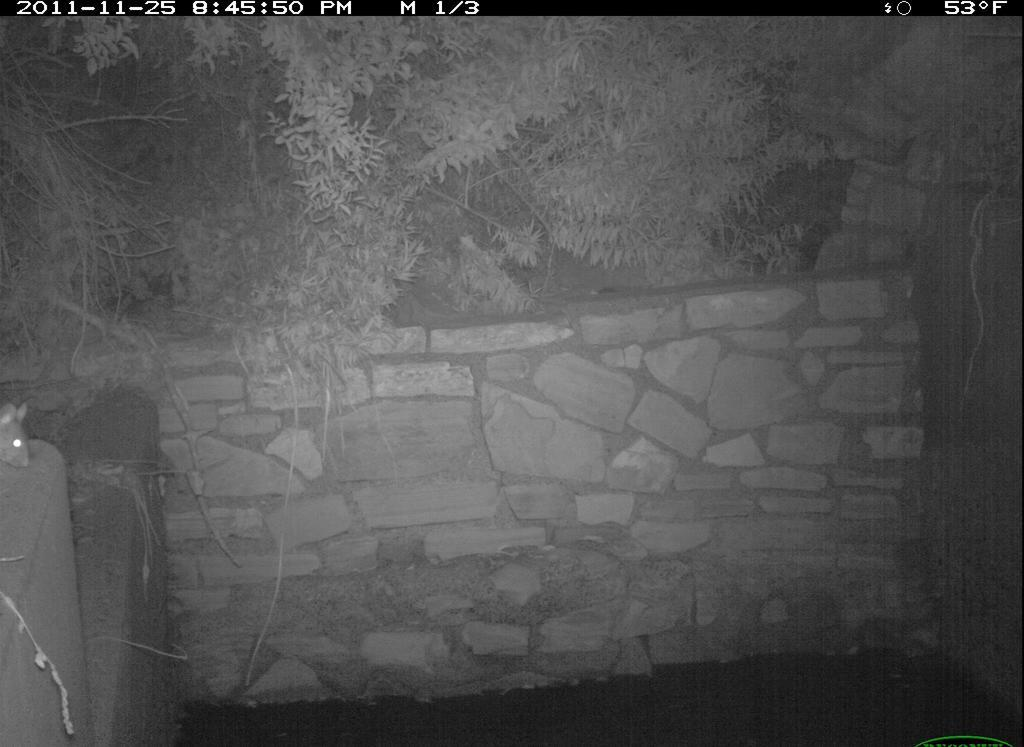rodent: (1, 399, 39, 487)
